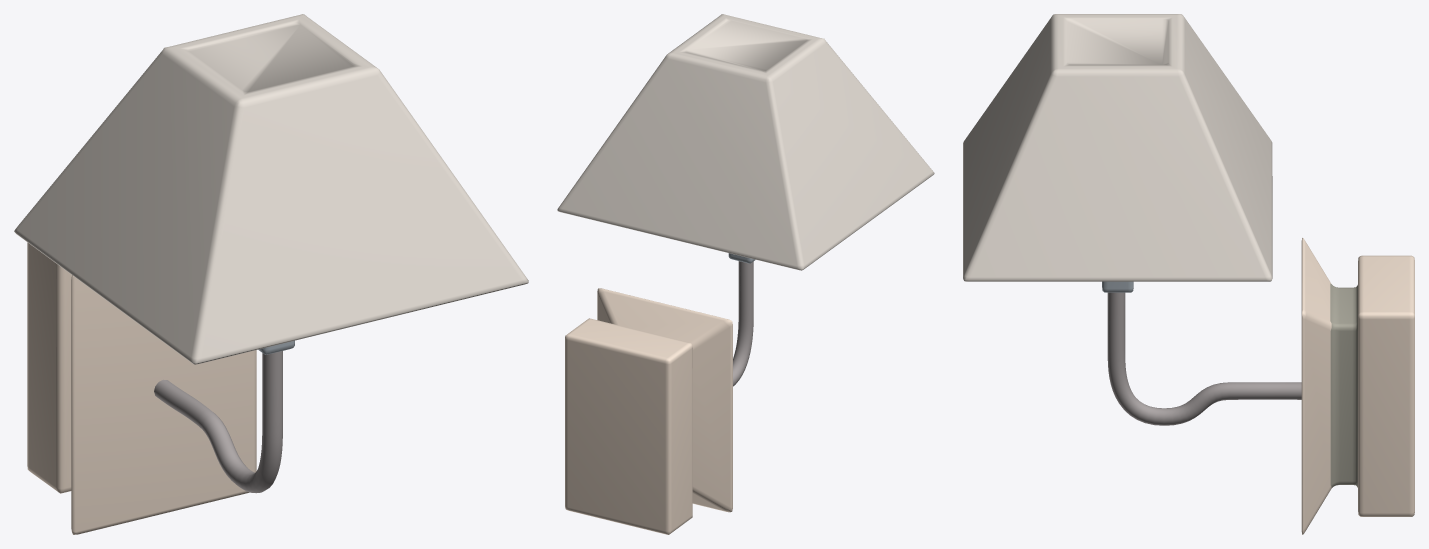
Rendered from Wandlampe.fbx.
3 renders of one model, left to right at view 1: azimuth 30°, elevation 25°; view 2: azimuth 150°, elevation 25°; view 3: azimuth 270°, elevation 25°, orthographic. The views are drawn at different scales.
Parts seen in each view (by area): view 1: Lampe.01; view 2: Lampe.01; view 3: Lampe.01.
Boxes of the visible parts, <box> form: Lampe.01: <box>14,14,528,534</box>; Lampe.01: <box>557,14,934,534</box>; Lampe.01: <box>963,14,1414,534</box>.
Bounding box in the file's own units: 57.08 × 86.94 × 78.18.
